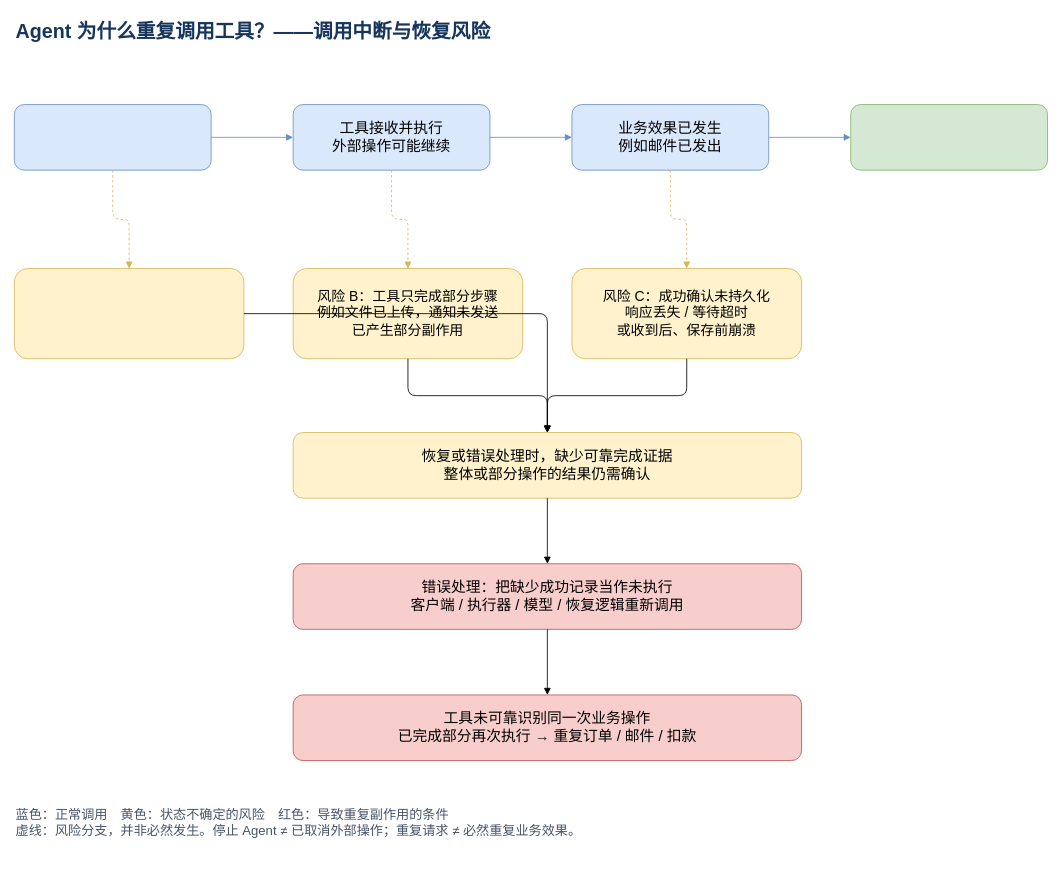
This 1062x872 diagram has some shape labels left out. The shapes that lost their labels are listed below. From the top down, each one's centre as x and y in pixels, then its label:
At point (112, 137): "Agent 发出工具请求".
At point (949, 137): "Agent 收到结果 并持久化成功记录".
At point (129, 313): "风险 A：发出后中断 进程被杀 / 用户停止 取消未确认生效".
